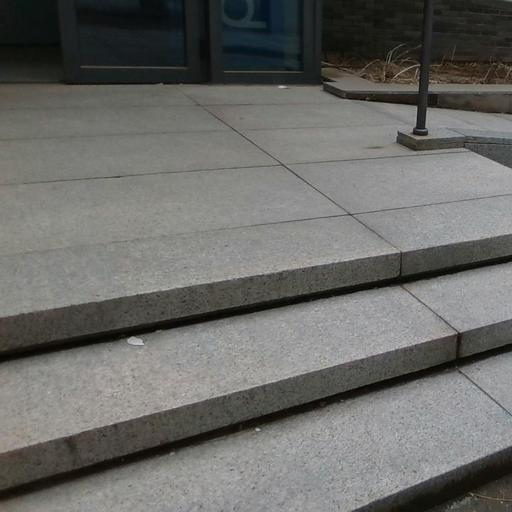Stairs: (0, 260, 512, 490), (2, 369, 512, 512)
